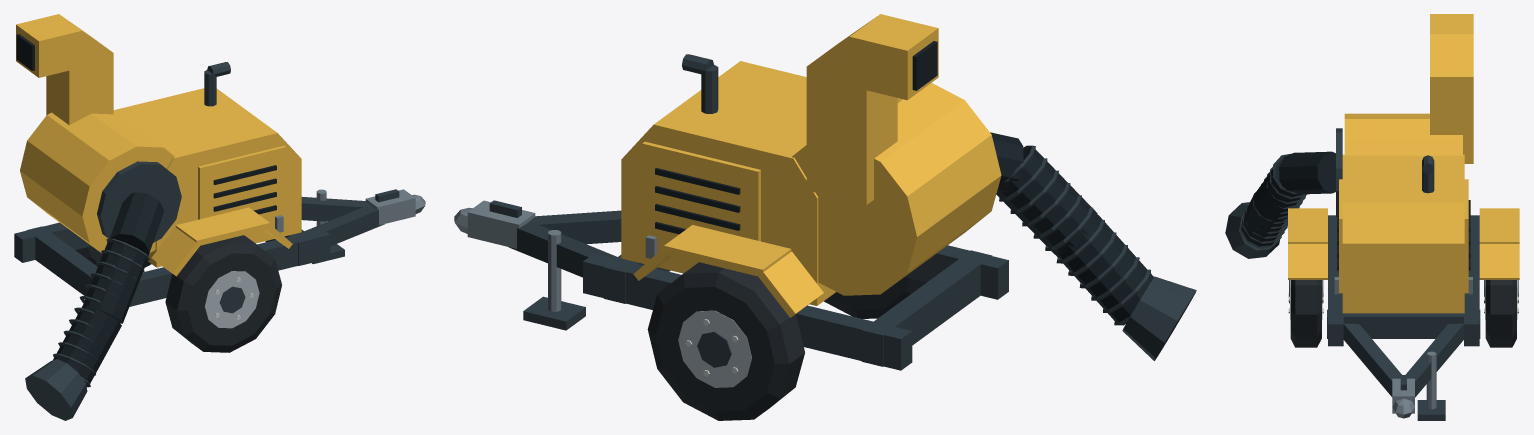
File: b04_towable_leaf_vacuum.glb
3 views of the same model, side by side, from view 1: azimuth 30°, elevation 25°; view 2: azimuth 150°, elevation 25°; view 3: azimuth 270°, elevation 25° (orthographic). The views are drawn at different scales.
Parts seen in each view (by area): view 1: b04_towable_leaf_vacuum; view 2: b04_towable_leaf_vacuum; view 3: b04_towable_leaf_vacuum.
Part boxes in pixels (box(x1,y1,x2,y2)): b04_towable_leaf_vacuum: box(14, 14, 425, 420); b04_towable_leaf_vacuum: box(454, 14, 1196, 420); b04_towable_leaf_vacuum: box(1225, 14, 1519, 420).
Bounding box in the file's own units: 2.95 × 1.75 × 1.69.
